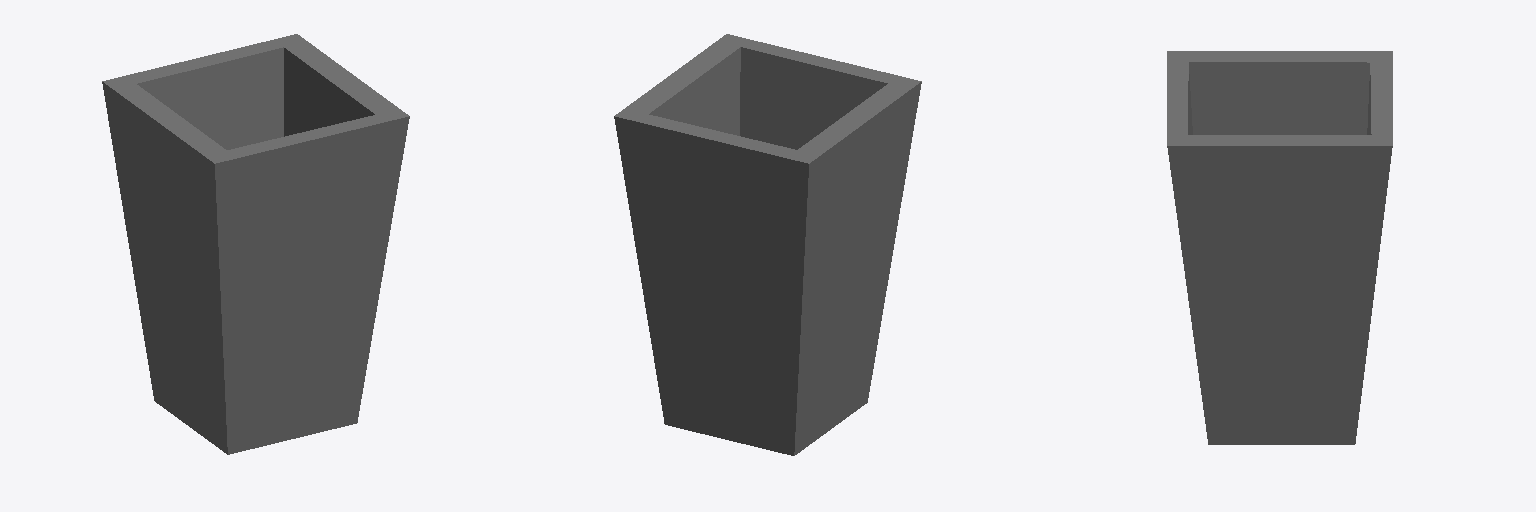
Rendered from BoteBasura.obj.
3 renders of one model, left to right at view 1: azimuth 30°, elevation 25°; view 2: azimuth 150°, elevation 25°; view 3: azimuth 270°, elevation 25°, orthographic.
Parts seen in each view (by area): view 1: polySurface141; view 2: polySurface141; view 3: polySurface141.
Boxes of the visible parts, x1=… form: polySurface141: x1=102, y1=34, x2=409, y2=454; polySurface141: x1=614, y1=34, x2=921, y2=455; polySurface141: x1=1167, y1=51, x2=1392, y2=444.
Bounding box in the file's own units: 1.3 × 2 × 1.3.